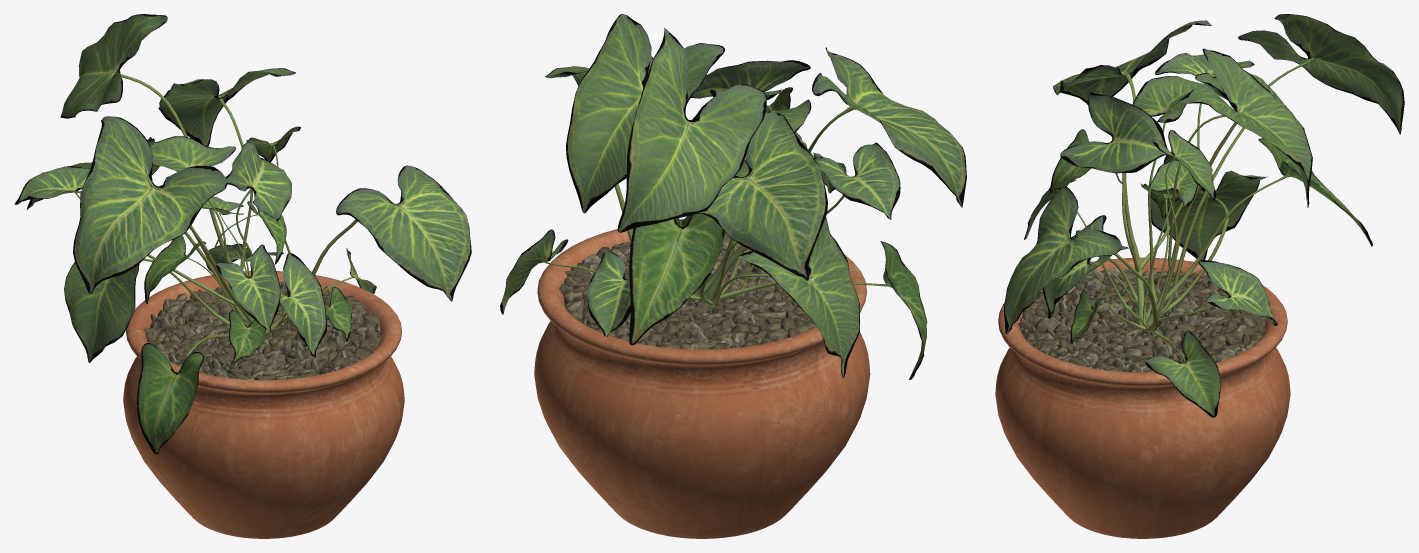
The model's file is potted_plant_02.obj.
The picture shows the model from 3 angles, left to right: view 1: azimuth 30°, elevation 25°; view 2: azimuth 150°, elevation 25°; view 3: azimuth 270°, elevation 25°; orthographic projection. The views are drawn at different scales.
Parts seen in each view (by area): view 1: potted_plant_02_leaves, potted_plant_02_pot, potted_plant_02_dirt; view 2: potted_plant_02_leaves, potted_plant_02_pot, potted_plant_02_dirt; view 3: potted_plant_02_leaves, potted_plant_02_pot, potted_plant_02_dirt.
Part boxes in pixels (box(x1,y1,x2,y2)): potted_plant_02_leaves: box(14, 14, 471, 454); potted_plant_02_pot: box(123, 271, 404, 538); potted_plant_02_dirt: box(143, 282, 383, 380); potted_plant_02_leaves: box(500, 14, 966, 379); potted_plant_02_pot: box(534, 219, 870, 538); potted_plant_02_dirt: box(559, 234, 816, 349); potted_plant_02_leaves: box(1004, 14, 1404, 417); potted_plant_02_pot: box(995, 257, 1290, 538); potted_plant_02_dirt: box(1018, 267, 1266, 372).
Bounding box in the file's own units: 0.7012 × 0.8412 × 0.6574.
2 materials, 2 textured.
